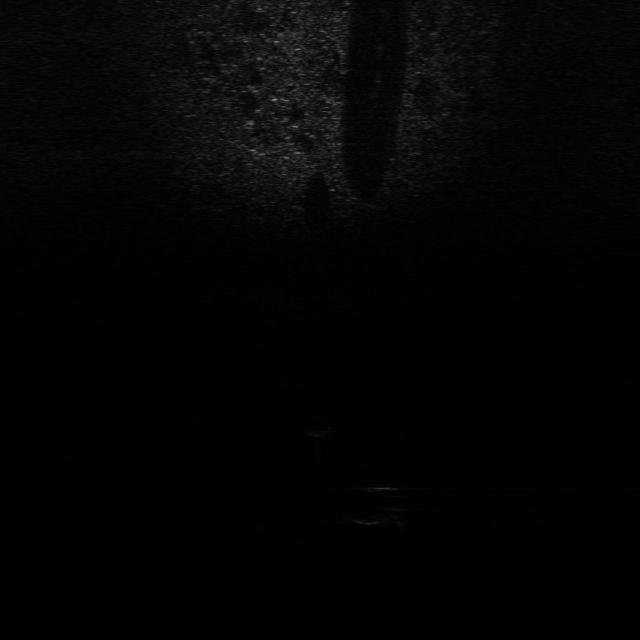ball: (302, 412, 334, 440)
tyre: (336, 474, 416, 528)
